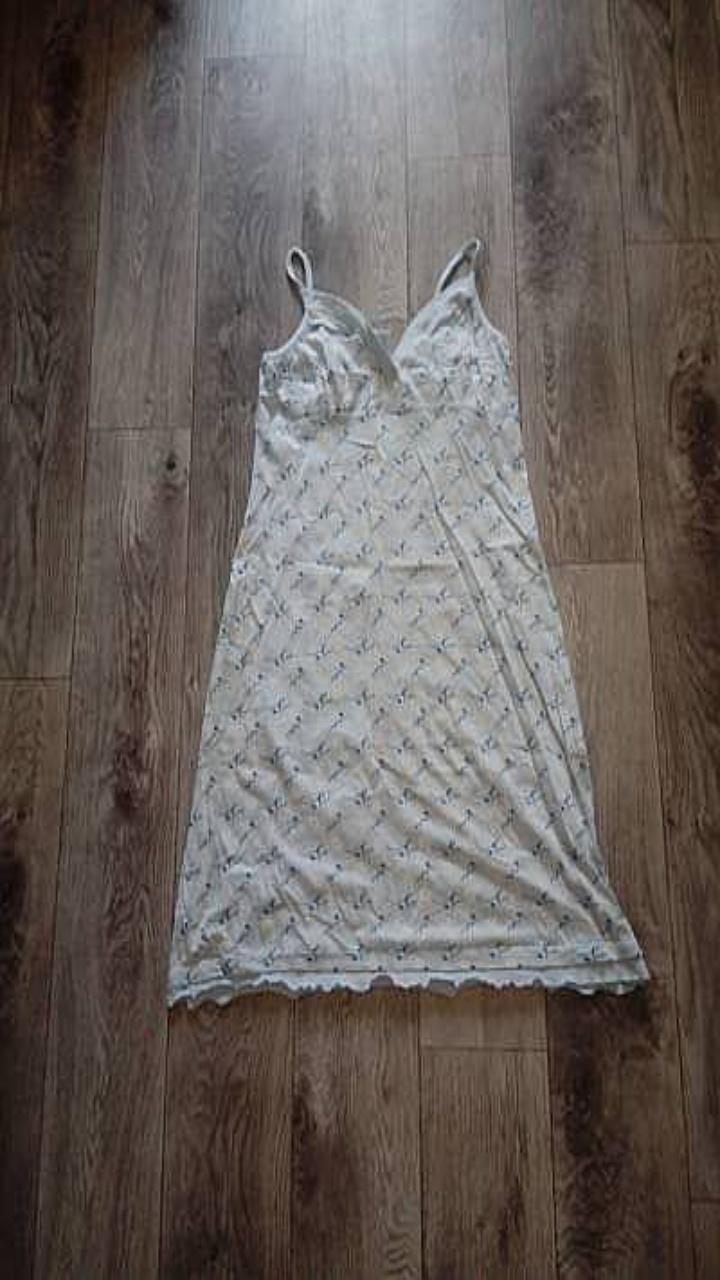Dresses: (168, 239, 649, 1003)
